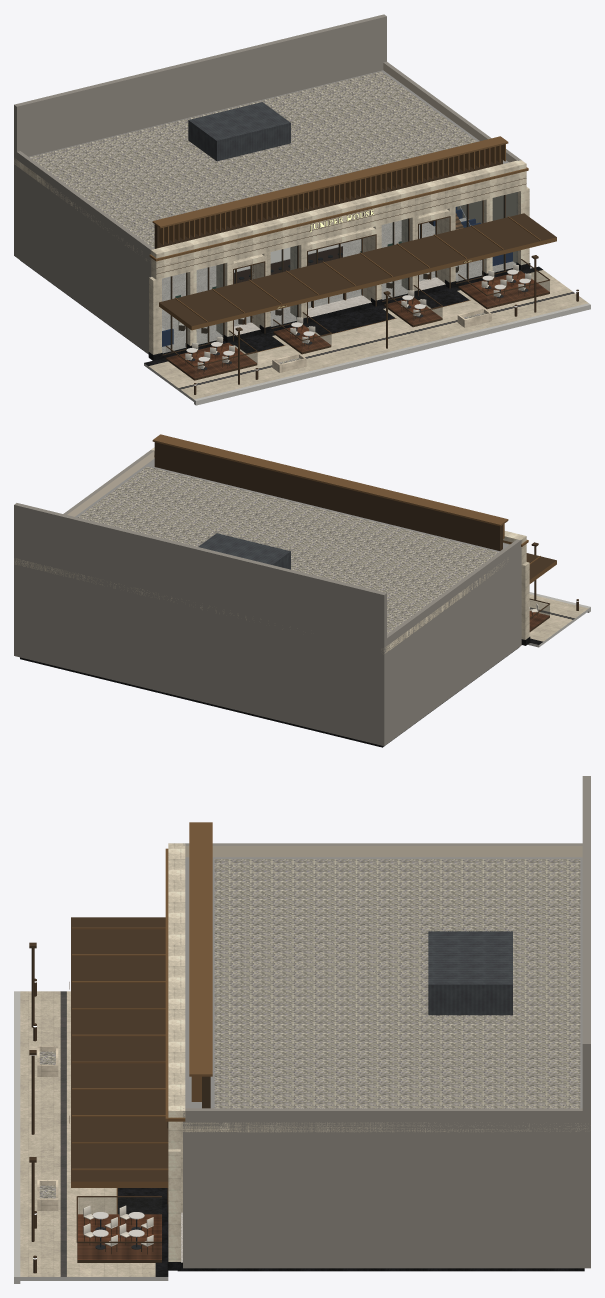
File: juniper_house.glb
3 views of the same model, one above another, from view 1: azimuth 30°, elevation 25°; view 2: azimuth 150°, elevation 25°; view 3: azimuth 270°, elevation 25° (orthographic). The views are drawn at different scales.
Parts seen in each view (by area): view 1: B02_LOD0_BUILDING_EXTERIOR_Stone, B02_LOD0_BUILDING_EXTERIOR_Roof, B02_LOD0_FACADE_DETAILS_Bronze, B02_LOD0_BUILDING_EXTERIOR_RearInterface, B02_SIDEWALK_FRONTAGE_Paving, B02_LOD0_BUILDING_INTERIOR_GroundSlab, B02_OPTIONAL_FORECOURT_TerraceFurniture, B02_OPTIONAL_FORECOURT_DeckR, B02_OPTIONAL_FORECOURT_DeckL, B02_OPTIONAL_FORECOURT_DeckLScreen, B02_OPTIONAL_FORECOURT_DeckRScreen, B02_OPTIONAL_FORECOURT_DeckC1Screen (+8 smaller); view 2: B02_LOD0_BUILDING_EXTERIOR_Stone, B02_LOD0_BUILDING_EXTERIOR_Roof, B02_LOD0_BUILDING_EXTERIOR_RearInterface, B02_LOD0_FACADE_DETAILS_Bronze, B02_SIDEWALK_FRONTAGE_Paving, B02_LOD0_BUILDING_INTERIOR_GroundSlab; view 3: B02_LOD0_BUILDING_EXTERIOR_Roof, B02_LOD0_BUILDING_EXTERIOR_Stone, B02_LOD0_FACADE_DETAILS_Bronze, B02_SIDEWALK_FRONTAGE_Paving, B02_LOD0_BUILDING_EXTERIOR_RearInterface, B02_OPTIONAL_FORECOURT_DeckR, B02_OPTIONAL_FORECOURT_DeckRScreen, B02_LOD0_BUILDING_INTERIOR_GroundSlab, B02_OPTIONAL_FORECOURT_TerraceFurniture, B02_OPTIONAL_FORECOURT_EmptyPlanters, B02_OPTIONAL_FORECOURT_PromenadeFurniture.
Boxes of the visible parts, bbox=[...] form: B02_LOD0_BUILDING_EXTERIOR_Stone: bbox=[14, 61, 530, 360]; B02_LOD0_BUILDING_EXTERIOR_Roof: bbox=[14, 70, 526, 267]; B02_LOD0_FACADE_DETAILS_Bronze: bbox=[149, 136, 556, 330]; B02_LOD0_BUILDING_EXTERIOR_RearInterface: bbox=[14, 14, 386, 257]; B02_SIDEWALK_FRONTAGE_Paving: bbox=[144, 266, 590, 405]; B02_LOD0_BUILDING_INTERIOR_GroundSlab: bbox=[20, 220, 519, 358]; B02_OPTIONAL_FORECOURT_TerraceFurniture: bbox=[185, 264, 531, 373]; B02_OPTIONAL_FORECOURT_DeckR: bbox=[458, 271, 549, 309]; B02_OPTIONAL_FORECOURT_DeckL: bbox=[166, 342, 257, 380]; B02_OPTIONAL_FORECOURT_DeckLScreen: bbox=[165, 330, 257, 378]; B02_OPTIONAL_FORECOURT_DeckRScreen: bbox=[458, 259, 549, 306]; B02_OPTIONAL_FORECOURT_DeckC1Screen: bbox=[273, 312, 331, 351]; B02_LOD0_BUILDING_EXTERIOR_Stone: bbox=[14, 442, 530, 745]; B02_LOD0_BUILDING_EXTERIOR_Roof: bbox=[14, 458, 526, 654]; B02_LOD0_BUILDING_EXTERIOR_RearInterface: bbox=[14, 503, 386, 745]; B02_LOD0_FACADE_DETAILS_Bronze: bbox=[152, 434, 556, 583]; B02_SIDEWALK_FRONTAGE_Paving: bbox=[527, 592, 590, 647]; B02_LOD0_BUILDING_INTERIOR_GroundSlab: bbox=[20, 648, 517, 747]; B02_LOD0_BUILDING_EXTERIOR_Roof: bbox=[168, 857, 590, 1132]; B02_LOD0_BUILDING_EXTERIOR_Stone: bbox=[167, 843, 590, 1270]; B02_LOD0_FACADE_DETAILS_Bronze: bbox=[71, 822, 212, 1187]; B02_SIDEWALK_FRONTAGE_Paving: bbox=[14, 991, 168, 1283]; B02_LOD0_BUILDING_EXTERIOR_RearInterface: bbox=[582, 776, 590, 1222]; B02_OPTIONAL_FORECOURT_DeckR: bbox=[77, 1214, 161, 1262]; B02_OPTIONAL_FORECOURT_DeckRScreen: bbox=[76, 1196, 161, 1259]; B02_LOD0_BUILDING_INTERIOR_GroundSlab: bbox=[178, 1212, 584, 1271]; B02_OPTIONAL_FORECOURT_TerraceFurniture: bbox=[83, 1205, 153, 1254]; B02_OPTIONAL_FORECOURT_EmptyPlanters: bbox=[37, 1046, 58, 1210]; B02_OPTIONAL_FORECOURT_PromenadeFurniture: bbox=[29, 942, 36, 1273].
Size of what is drawn, in the model's own units: 32 by 12.05 by 27.3.
39 materials, 12 textured.
